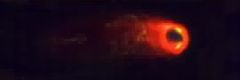keyhole: (165, 25, 185, 44)
